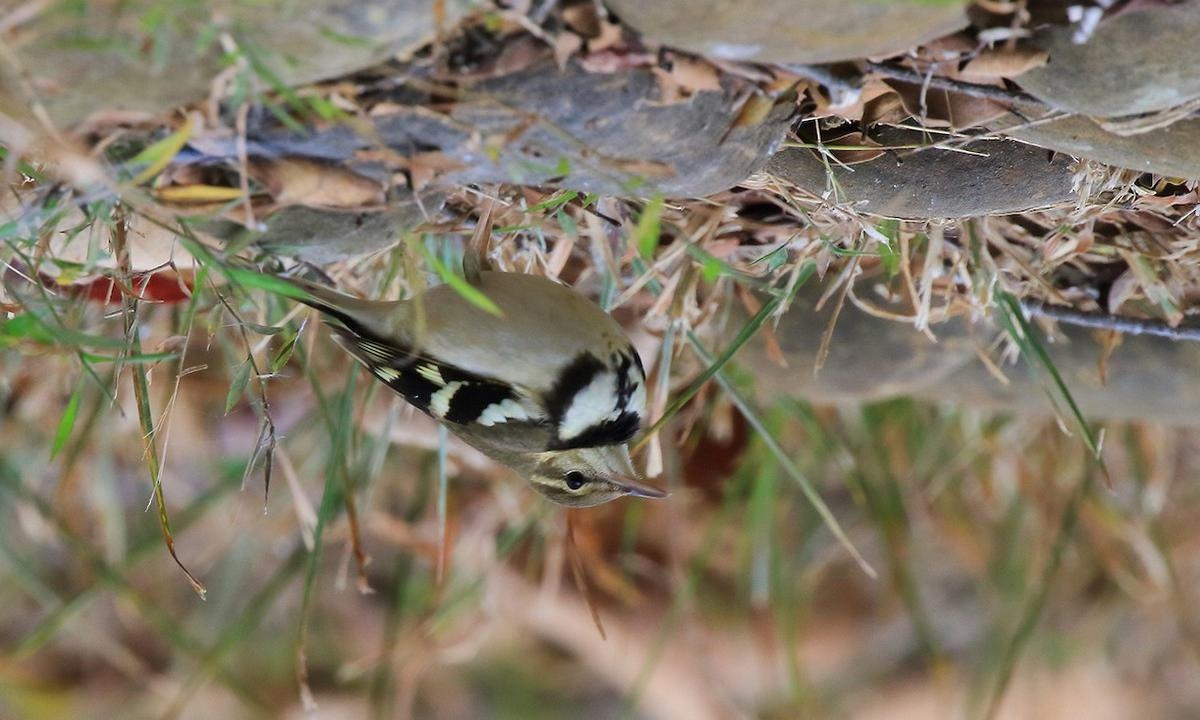wagtail: (273, 234, 691, 525)
